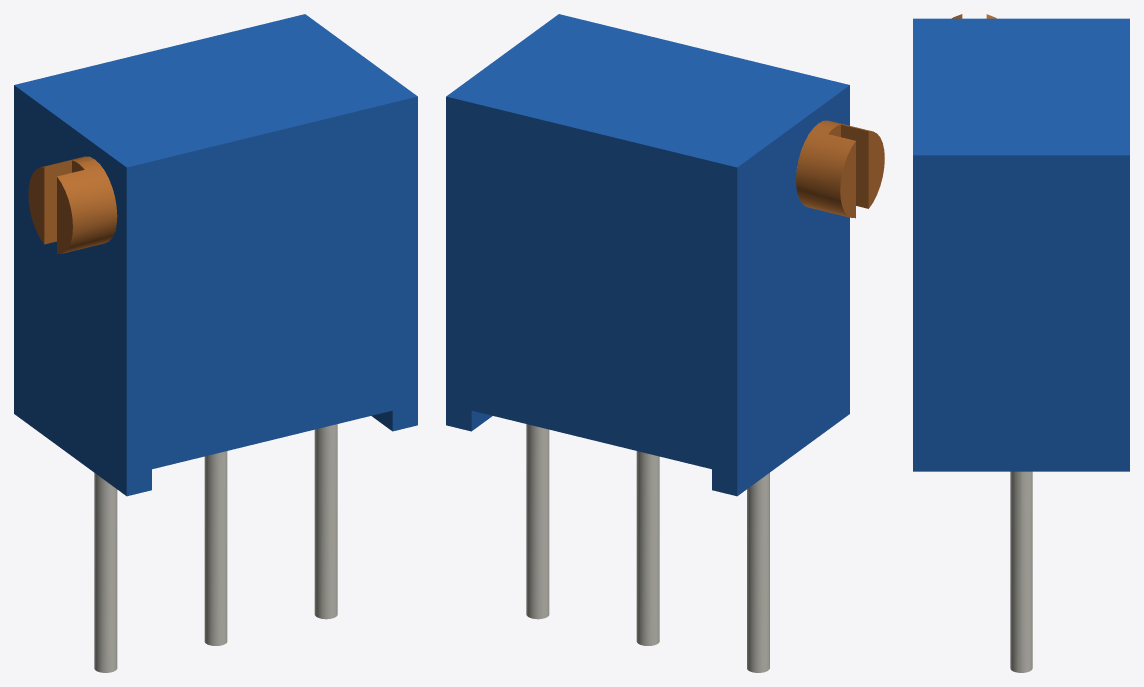
Rendered from kc-potentiometer_bourns_3266z_horizontal.glb.
The picture shows the model from 3 angles, left to right: view 1: azimuth 30°, elevation 25°; view 2: azimuth 150°, elevation 25°; view 3: azimuth 270°, elevation 25°; orthographic projection. The views are drawn at different scales.
Visible parts, largest first — view 1: 0_0.16666666666666666_0.5_0, 0.6666666666666666_0.6666666666666666_0.5833333333333334_0.8, 0.5_0.16666666666666666_0_0; view 2: 0_0.16666666666666666_0.5_0, 0.6666666666666666_0.6666666666666666_0.5833333333333334_0.8, 0.5_0.16666666666666666_0_0; view 3: 0_0.16666666666666666_0.5_0, 0.6666666666666666_0.6666666666666666_0.5833333333333334_0.8.
Part boxes in pixels (x1,y1,x2,y2): 0_0.16666666666666666_0.5_0: (14,14,417,496); 0.6666666666666666_0.6666666666666666_0.5833333333333334_0.8: (94,424,337,672); 0.5_0.16666666666666666_0_0: (28,156,117,253); 0_0.16666666666666666_0.5_0: (446,14,849,496); 0.6666666666666666_0.6666666666666666_0.5833333333333334_0.8: (526,424,769,672); 0.5_0.16666666666666666_0_0: (796,120,884,218); 0_0.16666666666666666_0.5_0: (913,18,1129,471); 0.6666666666666666_0.6666666666666666_0.5833333333333334_0.8: (1010,471,1032,672).
Bounding box in the file's own units: 0.773 × 1.21 × 0.45.
